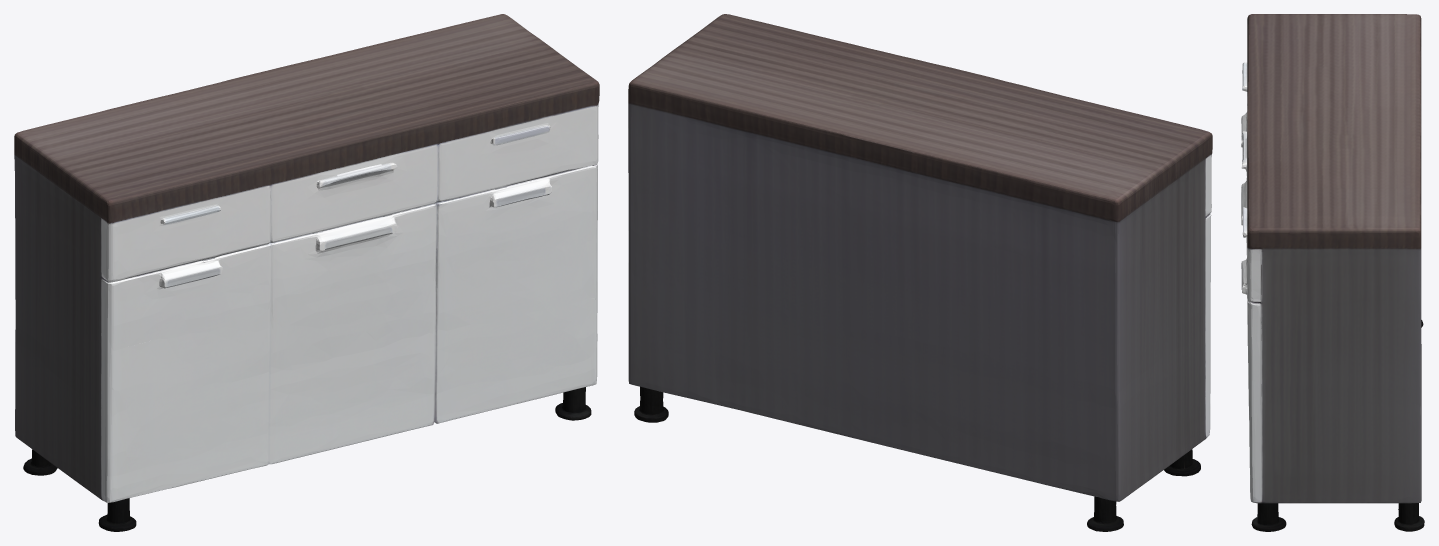
File: mw9703db_3_door_base_white_dark_oak.glb
The picture shows the model from 3 angles, left to right: view 1: azimuth 30°, elevation 25°; view 2: azimuth 150°, elevation 25°; view 3: azimuth 270°, elevation 25°; orthographic projection. The views are drawn at different scales.
Visible parts, largest first — view 1: world; view 2: world; view 3: world.
Part boxes in pixels (left/top/right/bottom): world: left=14, top=14, right=599, bottom=531; world: left=628, top=14, right=1212, bottom=531; world: left=1241, top=14, right=1424, bottom=531.
Bounding box in the file's own units: 0.9997 × 0.6507 × 0.3563.
1 material, 1 textured.
